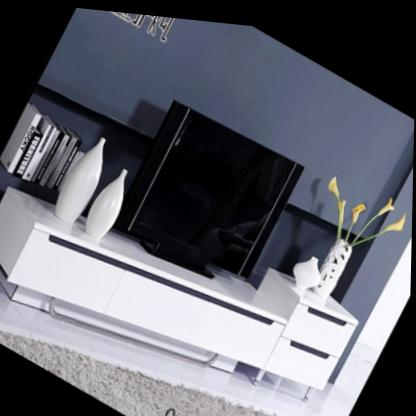Carpet: (0, 334, 303, 416)
TV stand: (0, 182, 365, 394)
